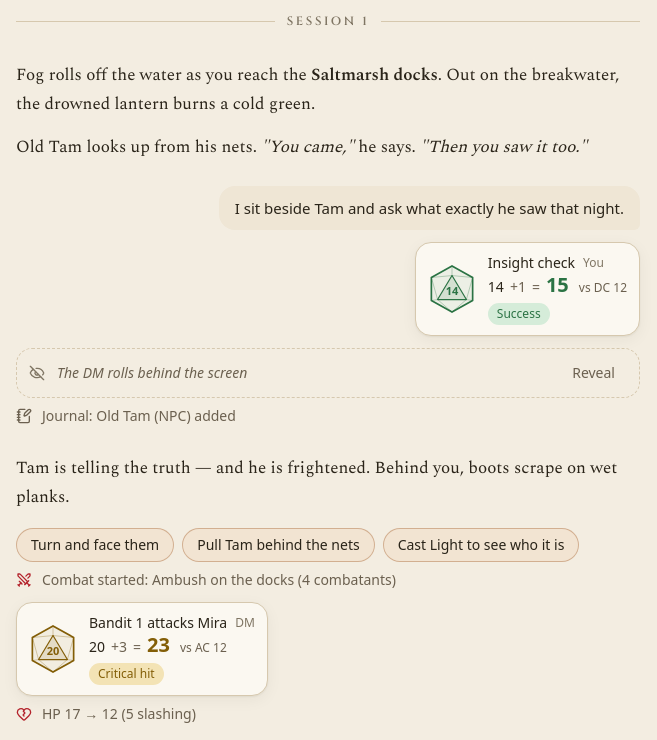
NarrativeLog › reveals a secret DM roll on request
Click the button "Reveal" at x=594, y=374, box [560,358,627,390]
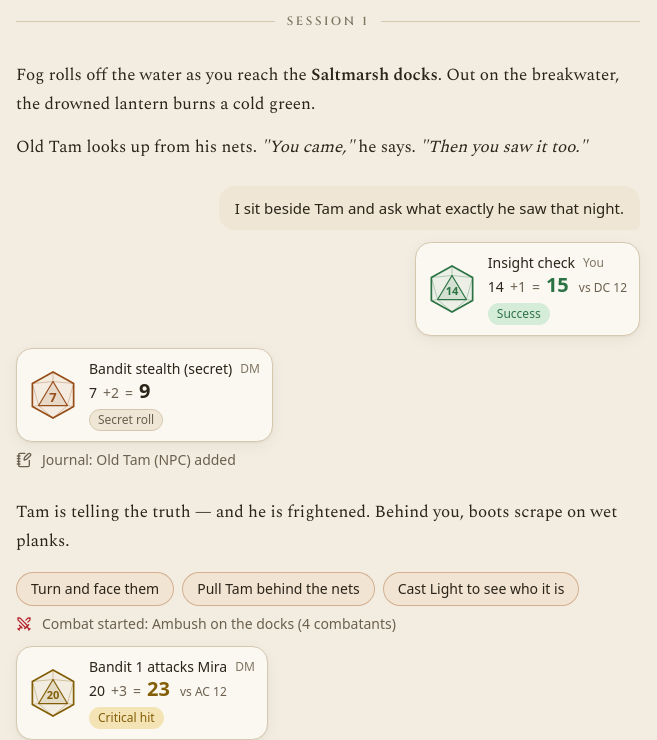
Now the text "Bandit stealth (secret)" is shown, box [89,360,232,380]
Now the text "Secret roll" is shown, box [89,410,163,432]
